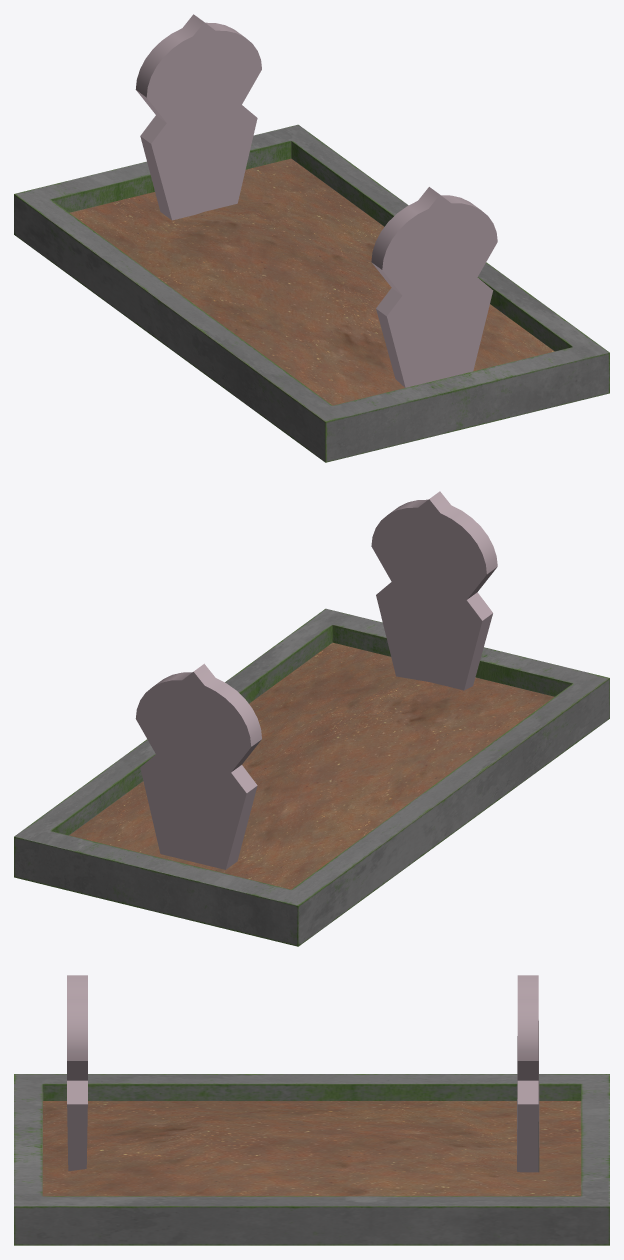
File: Tomb3.fbx
3 renders of one model, top to bottom at view 1: azimuth 30°, elevation 25°; view 2: azimuth 150°, elevation 25°; view 3: azimuth 270°, elevation 25°, orthographic. The views are drawn at different scales.
Parts seen in each view (by area): view 1: Tomb.002; view 2: Tomb.002; view 3: Tomb.002.
Part boxes in pixels (bbox=[...]): Tomb.002: bbox=[14, 14, 609, 462]; Tomb.002: bbox=[14, 491, 609, 946]; Tomb.002: bbox=[14, 975, 609, 1245].
Size of the model in its own units: 355 by 254 by 674.
1 material, 1 textured.
